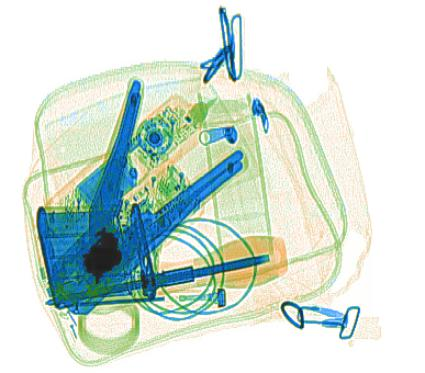battery: (35, 199, 160, 310), (73, 152, 141, 214)
